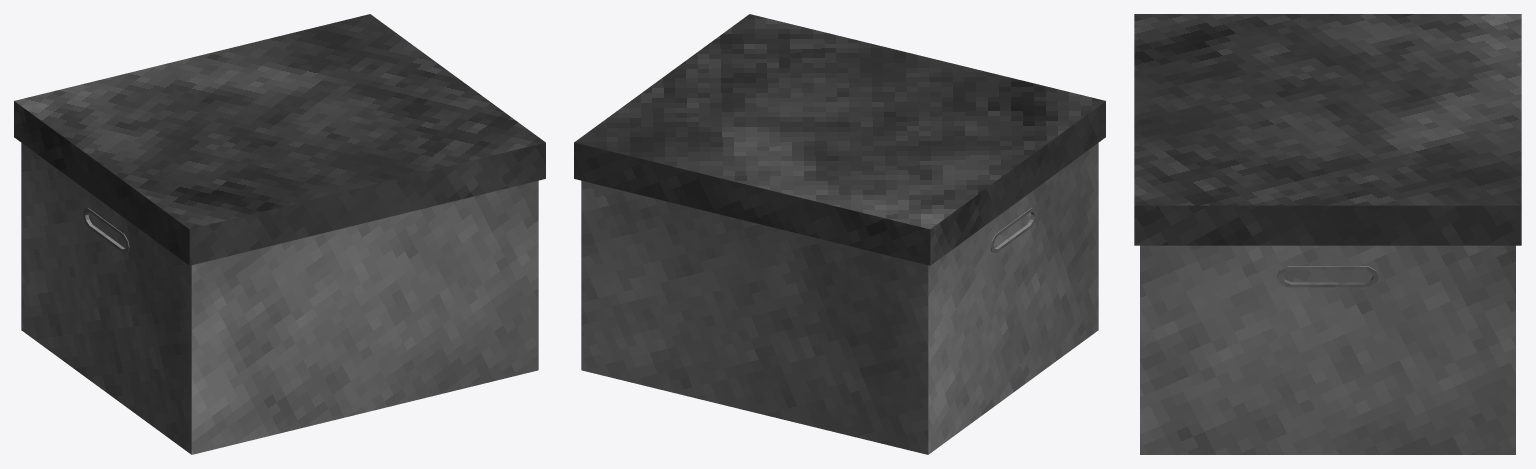
File: CardboardCrate.glb
The picture shows the model from 3 angles, left to right: view 1: azimuth 30°, elevation 25°; view 2: azimuth 150°, elevation 25°; view 3: azimuth 270°, elevation 25°; orthographic projection. The views are drawn at different scales.
Visible parts, largest first — view 1: Box.002; view 2: Box.002; view 3: Box.002.
Boxes of the visible parts, <box> form: Box.002: <box>14,14,545,454</box>; Box.002: <box>574,14,1105,454</box>; Box.002: <box>1134,14,1521,454</box>.
Size of the model in its own units: 2.05 by 1.26 by 1.75.
1 material, 1 textured.
